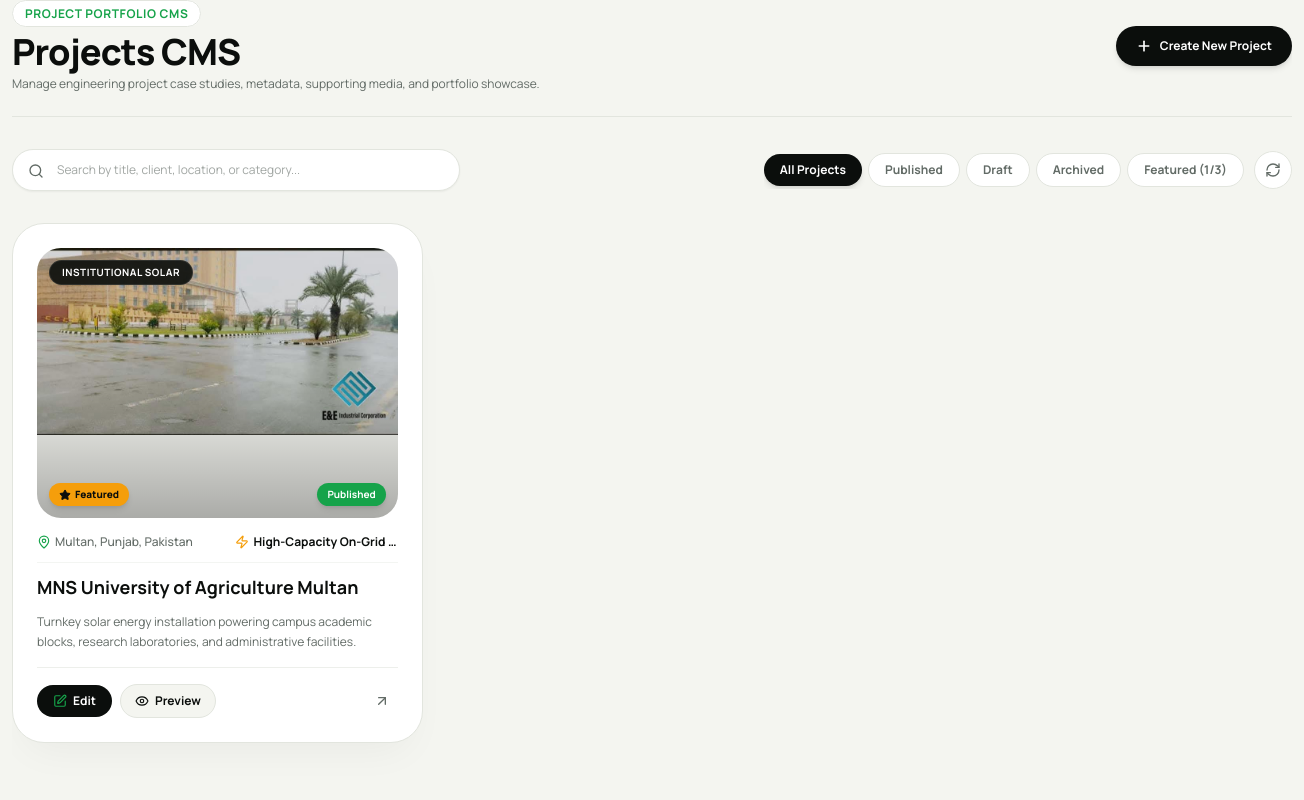
Test case: admin project list response handling › rejects a mixed response after a successful load rather than showing partial records
The width and height of the screenshot is (1304, 800).
What coordinates should you click on to do the following:
click the button titled "Refresh List"
I would click on:
 (1273, 170)
Its box is [1254, 151, 1292, 189].
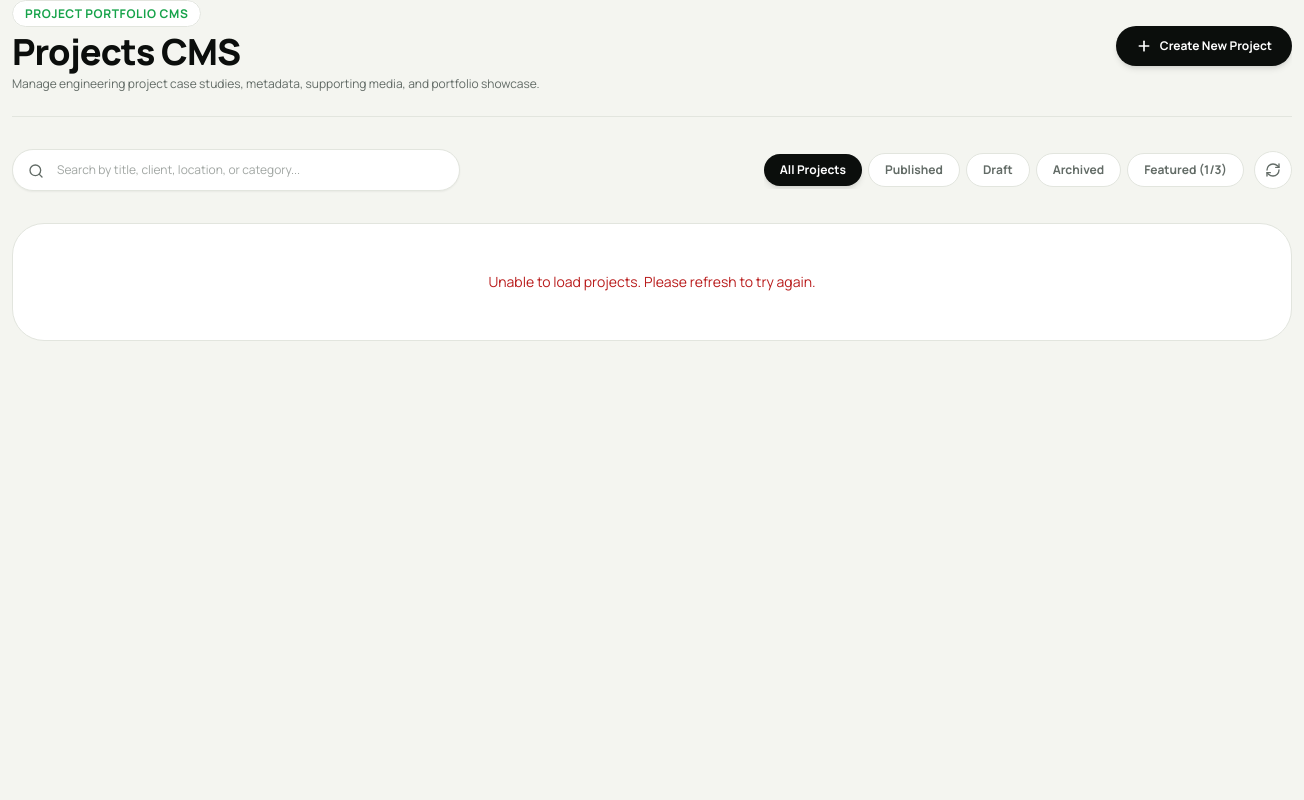
Now the message "Unable to load projects. Please refresh to try again." is shown, box [12, 223, 1292, 341]
